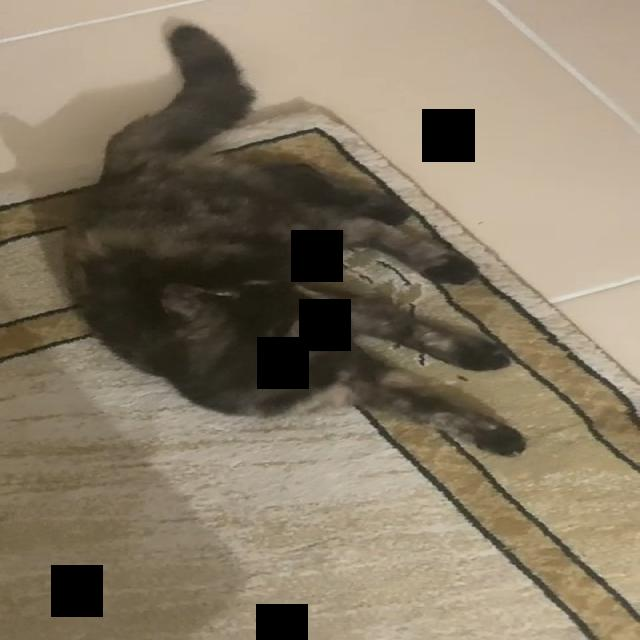authorized: (61, 16, 528, 458)
